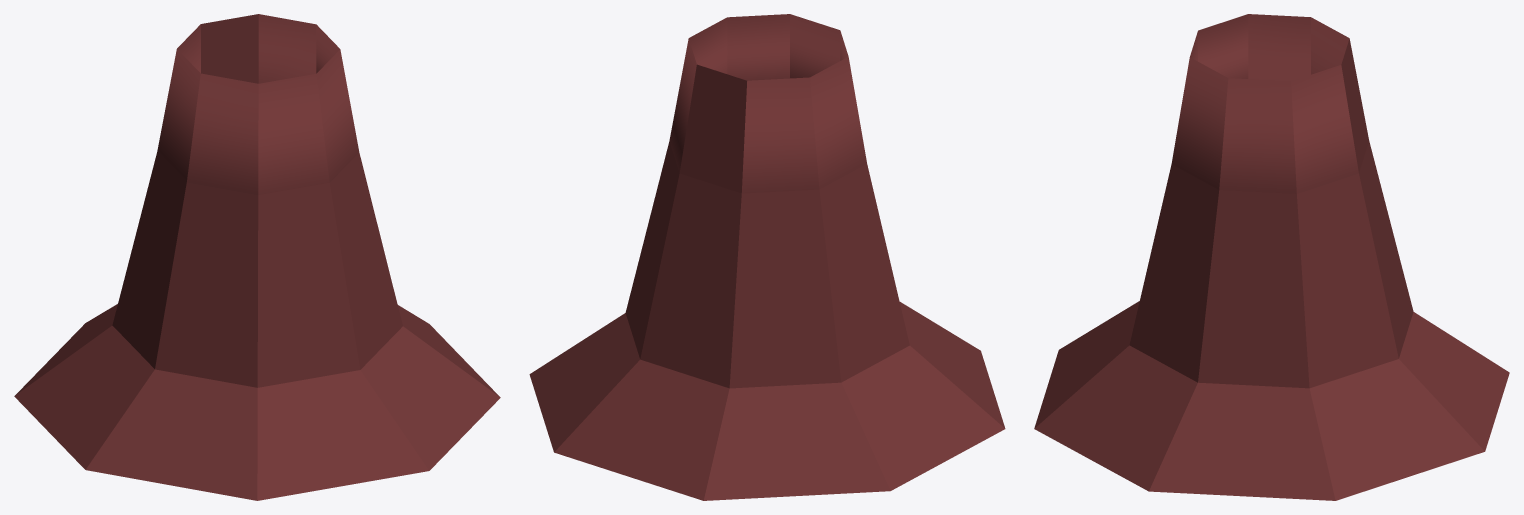
File: Sedang33.fbx
3 renders of one model, left to right at view 1: azimuth 30°, elevation 25°; view 2: azimuth 150°, elevation 25°; view 3: azimuth 270°, elevation 25°, orthographic.
Visible parts, largest first — view 1: Icosphere.002; view 2: Icosphere.002; view 3: Icosphere.002.
Part boxes in pixels (<box>): Icosphere.002: <box>14,14,500,500</box>; Icosphere.002: <box>529,14,1005,500</box>; Icosphere.002: <box>1034,14,1509,500</box>.
Size of the model in its own units: 124 by 102 by 124.
